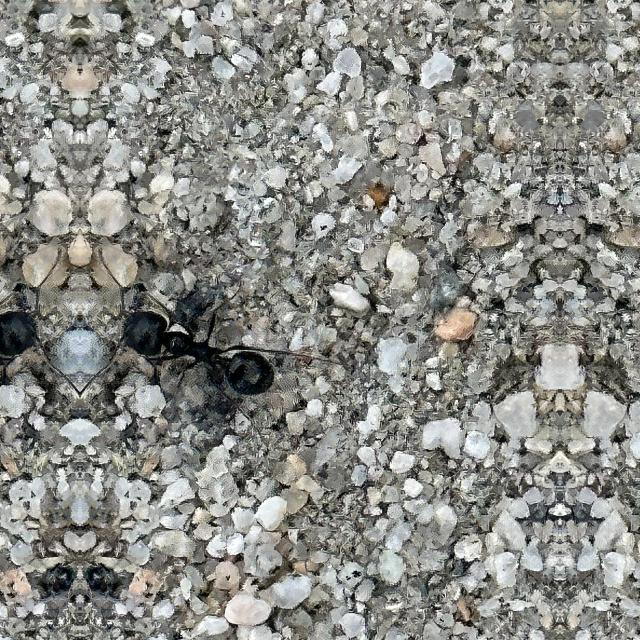Messor: (119, 300, 301, 430), (0, 299, 41, 430)
